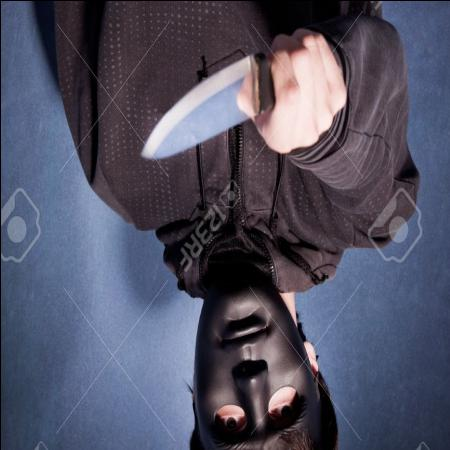long weapon: (128, 26, 330, 168)
